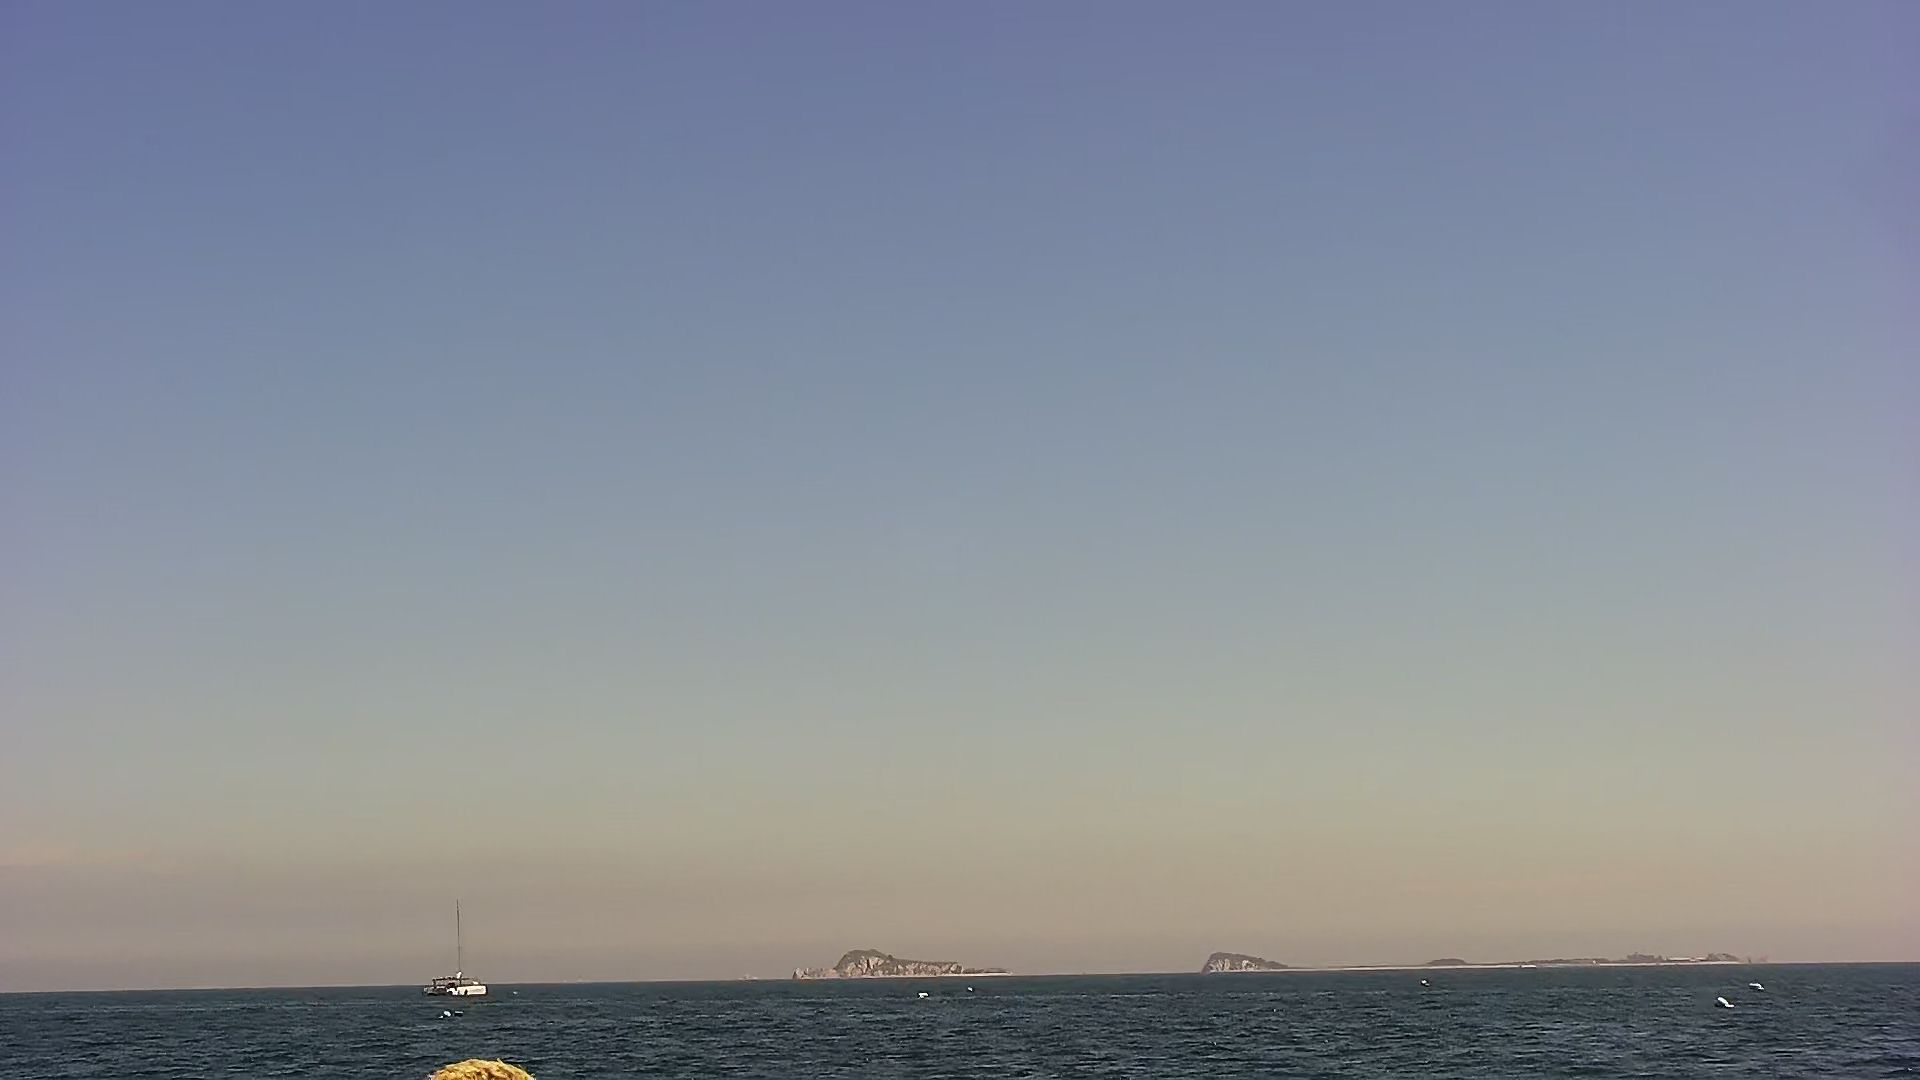boat: (417, 894, 491, 996)
rock: (793, 940, 1019, 978), (1196, 945, 1298, 975), (1418, 951, 1472, 969)
rubbish: (419, 1051, 535, 1080), (1698, 986, 1742, 1014), (1739, 976, 1778, 996)
